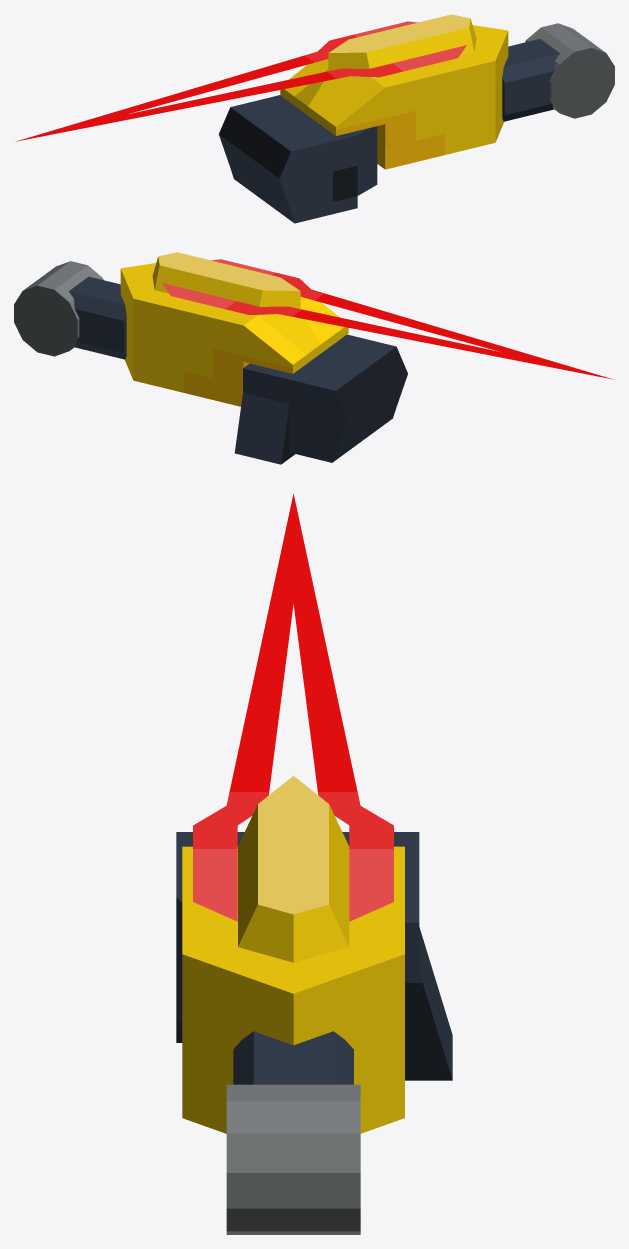
File: YellowJacketLeftArm.obj
The picture shows the model from 3 angles, top to bottom: view 1: azimuth 30°, elevation 25°; view 2: azimuth 150°, elevation 25°; view 3: azimuth 270°, elevation 25°; orthographic projection. The views are drawn at different scales.
Visible parts, largest first — view 1: Forearm, cuboid, plane, cylinder, Arm; view 2: Forearm, cuboid, plane, cylinder, Arm; view 3: Forearm, plane, cylinder, cuboid, Arm.
Boxes of the visible parts, box(x1,y1,x2,y2) form: Forearm: box(280, 14, 508, 169); cuboid: box(218, 95, 377, 223); plane: box(16, 21, 466, 141); cylinder: box(525, 23, 614, 118); Arm: box(502, 39, 559, 121); Forearm: box(120, 252, 348, 406); cuboid: box(234, 334, 407, 464); plane: box(162, 259, 613, 379); cylinder: box(14, 261, 103, 356); Arm: box(69, 276, 126, 359); Forearm: box(182, 776, 404, 1133); plane: box(193, 493, 393, 921); cylinder: box(226, 1084, 360, 1234); cuboid: box(176, 832, 452, 1080); Arm: box(233, 1031, 353, 1084).
Bounding box in the file's own units: 1.26 × 0.2875 × 0.2578.
1 material, 1 textured.
